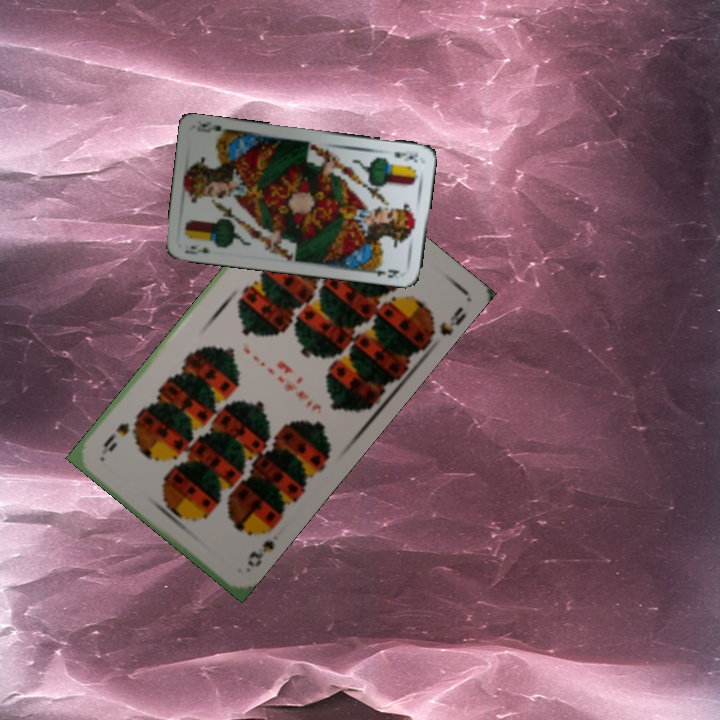EK: (180, 242, 212, 257), (390, 148, 420, 163)
S9: (243, 520, 279, 570)
